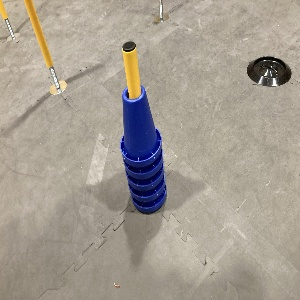Blue_5: (119, 86, 165, 214)
